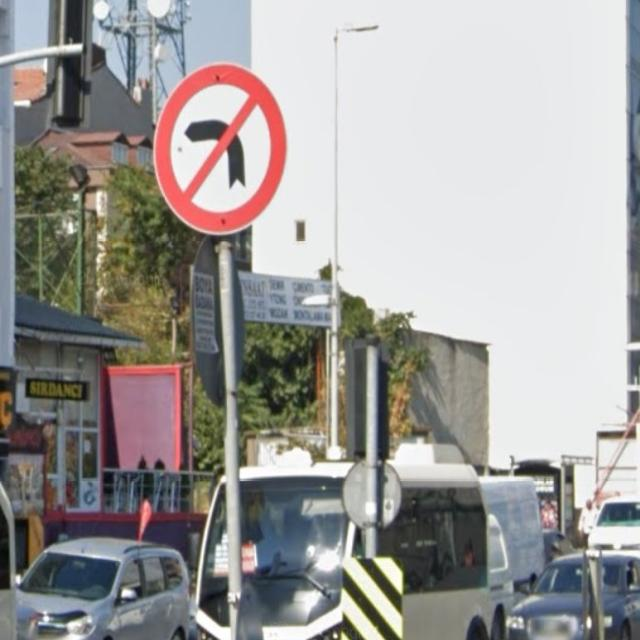soladonulmez: (153, 63, 287, 234)
